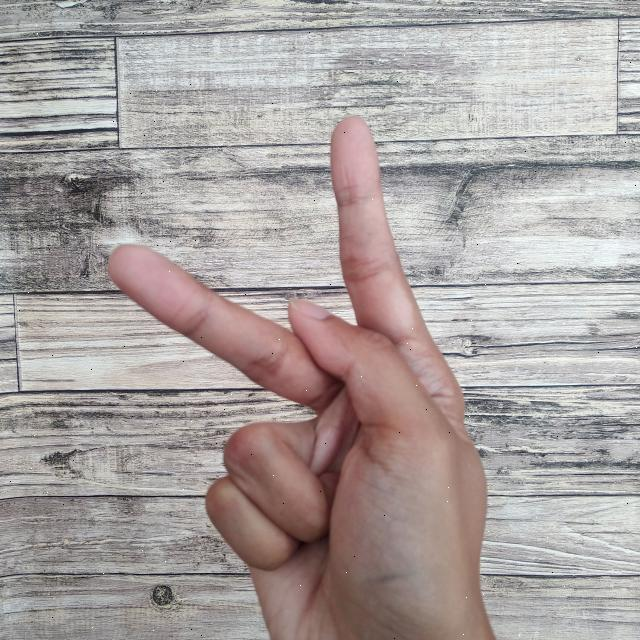K: (98, 109, 492, 640)
